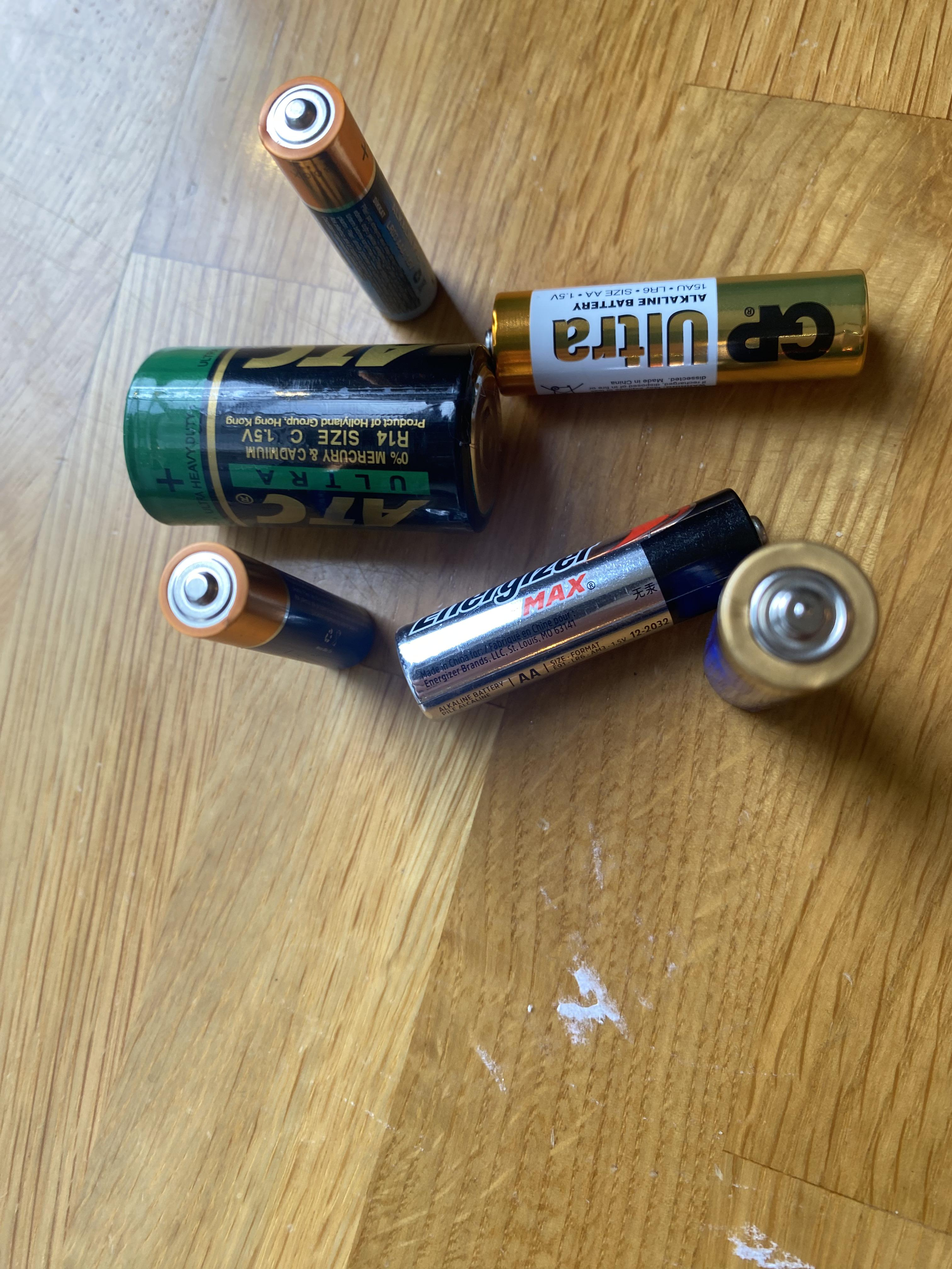AA: (484, 267, 870, 397)
AAA: (230, 52, 463, 323), (142, 532, 384, 736)
